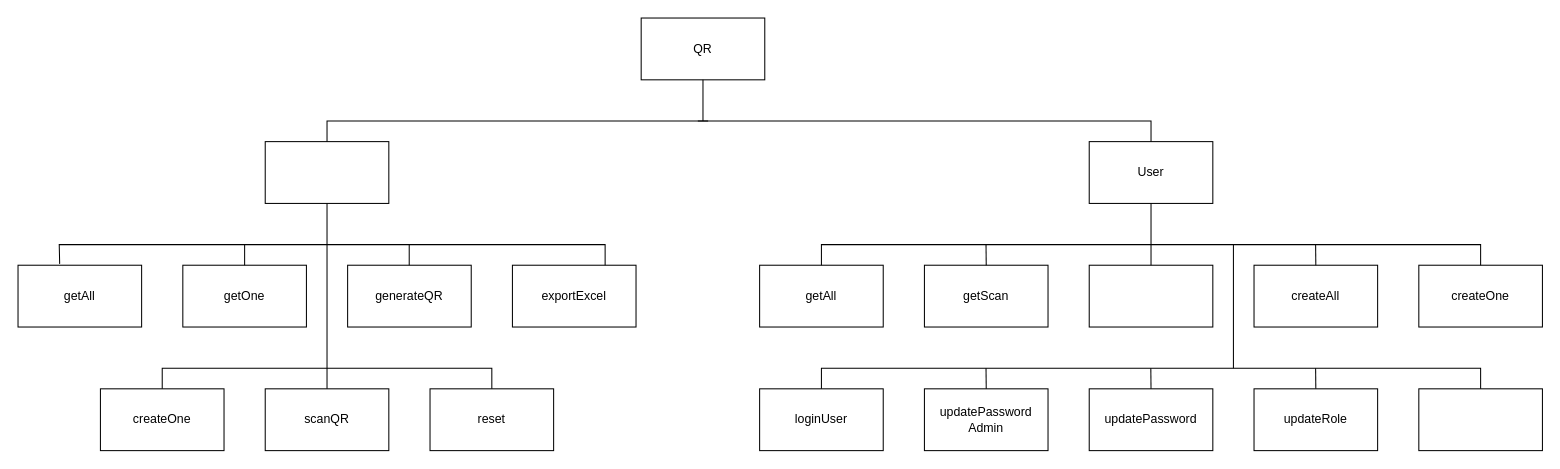
Image size: 1560x469. Some labels were removed from this diagram. Each missing label, with the box of its shape:
getScanned: (1088, 264, 1213, 327)
Runner: (264, 141, 389, 203)
updateScan: (1418, 388, 1542, 451)
